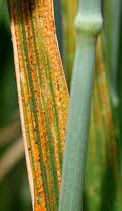Leaf Rust: (11, 19, 69, 178)
